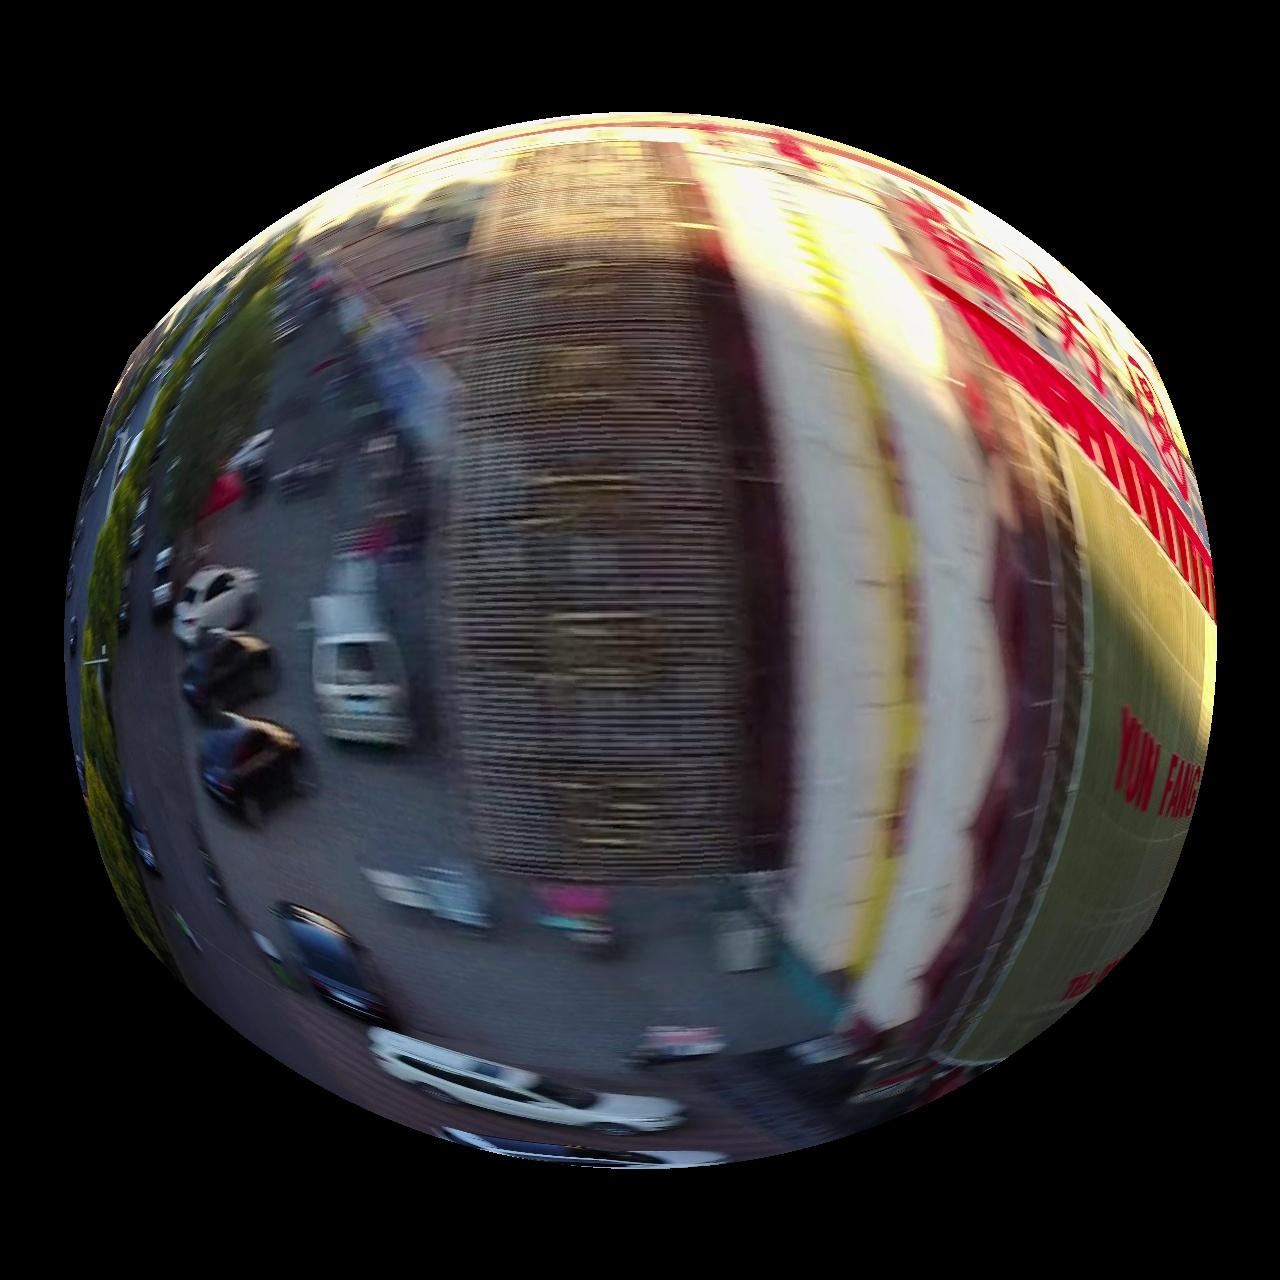building: (435, 125, 1216, 1067), (331, 179, 491, 362)
cars: (367, 1029, 686, 1135), (311, 594, 414, 747), (275, 904, 388, 1023), (198, 712, 302, 829), (438, 1129, 728, 1171), (181, 628, 274, 720), (171, 565, 259, 647)
trees: (156, 229, 295, 538), (86, 758, 172, 969), (83, 501, 134, 648), (79, 631, 120, 799)
